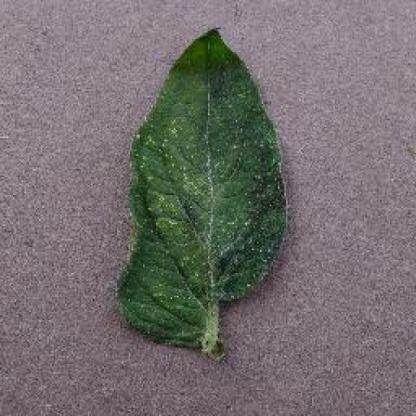Tomato_Spider_Mites: (118, 26, 285, 346)
